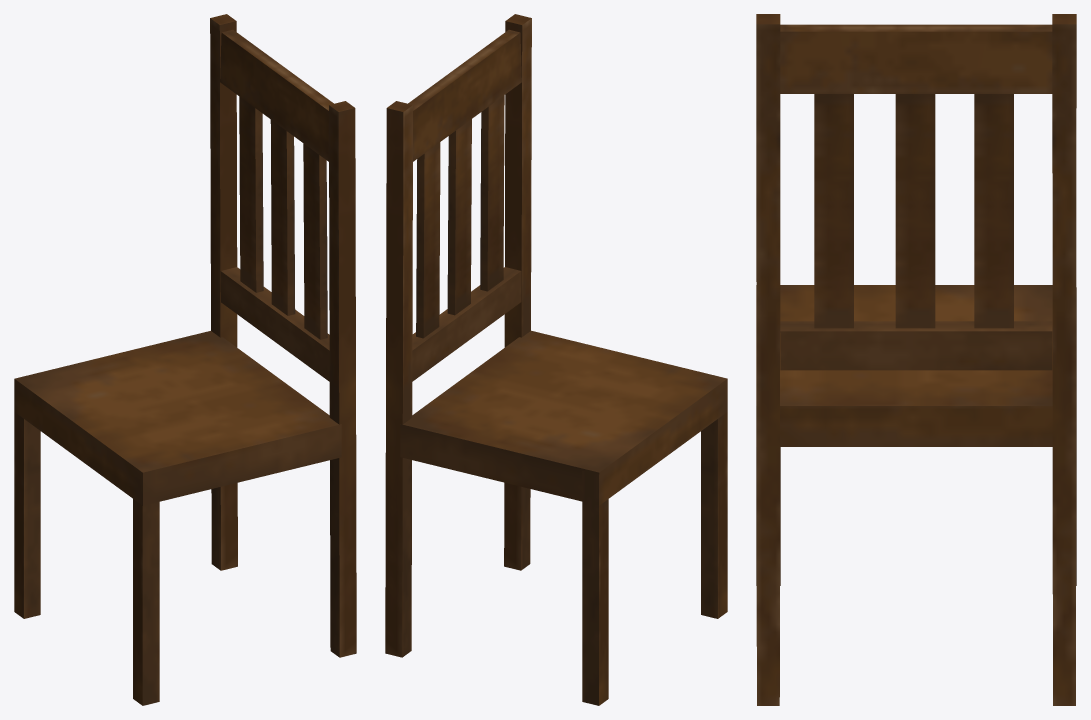
Rendered from stul.fbx.
3 views of the same model, side by side, from view 1: azimuth 30°, elevation 25°; view 2: azimuth 150°, elevation 25°; view 3: azimuth 270°, elevation 25° (orthographic). The views are drawn at different scales.
Visible parts, largest first — view 1: chair.001; view 2: chair.001; view 3: chair.001.
Boxes of the visible parts, x1=… form: chair.001: x1=14, y1=14, x2=356, y2=705; chair.001: x1=385, y1=14, x2=727, y2=705; chair.001: x1=756, y1=14, x2=1076, y2=705.
Size of the model in its own units: 55.4 by 135 by 57.61.
1 material, 1 textured.
